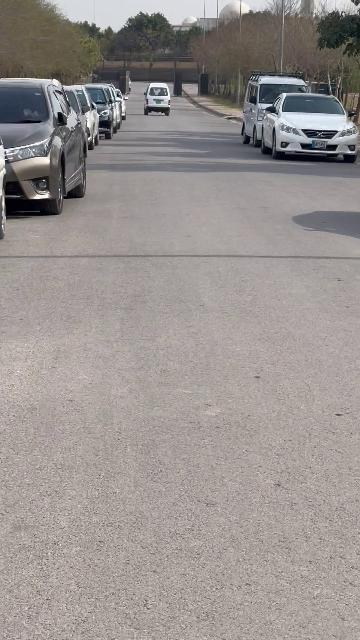plate: (312, 141, 327, 149)
